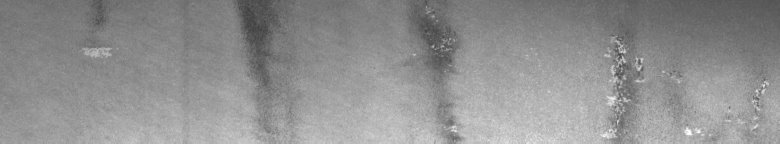hc: (602, 32, 769, 136)
